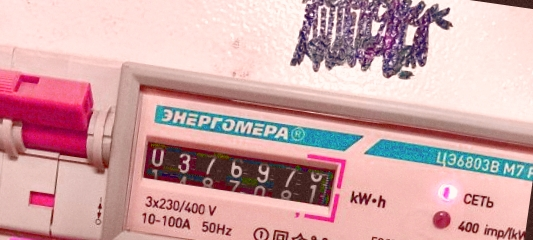0: (148, 143, 166, 167)
1: (305, 181, 317, 204)
3: (175, 150, 191, 173)
6: (227, 154, 245, 179)
7: (201, 151, 218, 176), (280, 162, 297, 187)
9: (254, 159, 271, 183)
screen: (127, 124, 349, 226)
